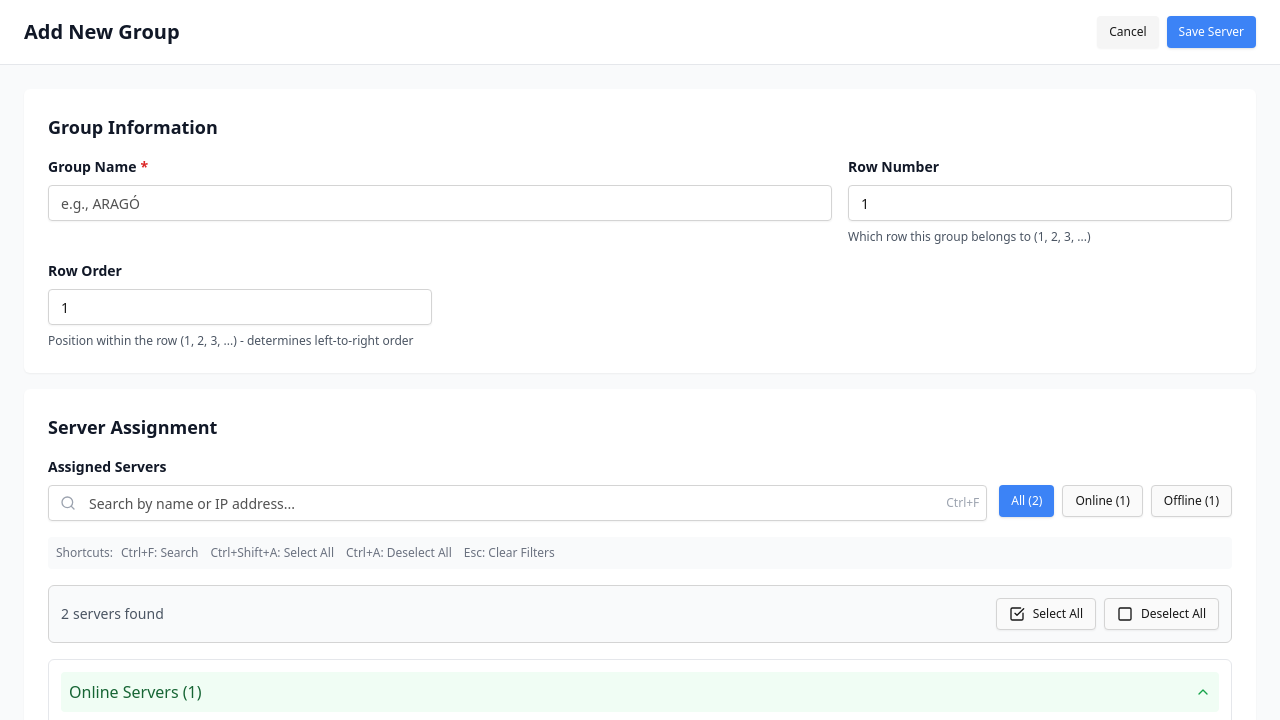
Test: GroupForm › Enhanced Server Assignment Interface › shows no results message when no servers match filter
In the field named "Search servers": (518, 503) x1=48 y1=485 x2=987 y2=521, type "nonexistent"
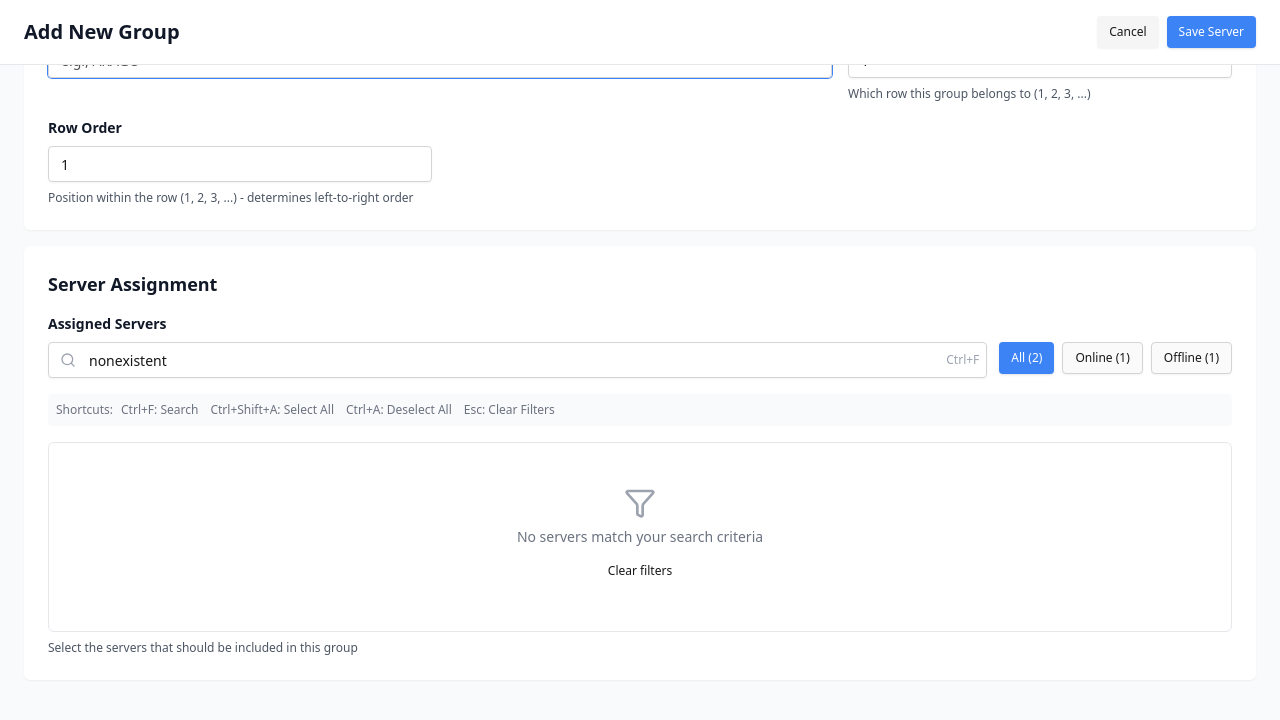
Expected: the text "No servers match your search criteria" is shown, x1=517 y1=527 x2=763 y2=546
Expected: the button "Clear filters" is shown, x1=596 y1=555 x2=684 y2=587
